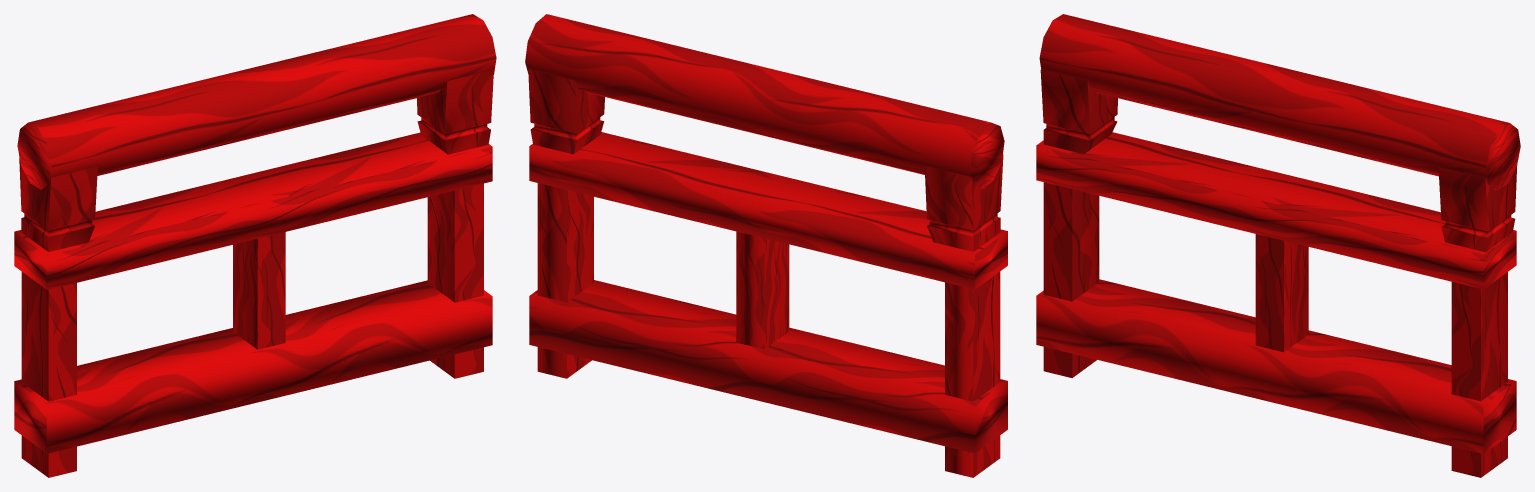
File: Fence.fbx
3 renders of one model, left to right at view 1: azimuth 30°, elevation 25°; view 2: azimuth 150°, elevation 25°; view 3: azimuth 330°, elevation 25°, orthographic.
Visible parts, largest first — view 1: Fence; view 2: Fence; view 3: Fence.
Part boxes in pixels (x1,y1,x2,y2): Fence: (14,14,496,477); Fence: (525,14,1007,477); Fence: (1036,14,1520,477).
Bounding box in the file's own units: 1.99 × 1.45 × 0.2644.
Materials: 1 (1 with a texture image).
